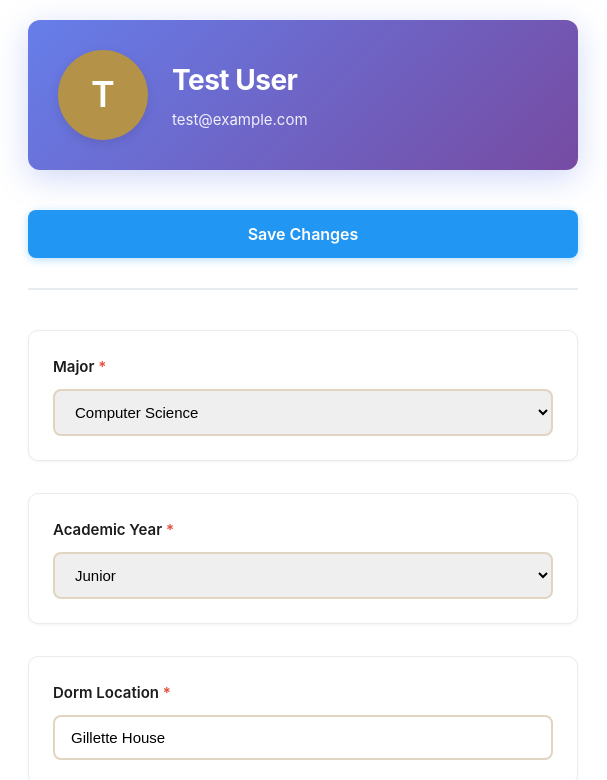
Scenario: ProfilePage › saves profile updates successfully
Expected: the dropdown labelled "Major *" shows "Computer Science", top-left (53, 389), bottom-right (553, 436)
Click the button "Save Changes".
click(303, 234)  # box top-left (28, 210), bottom-right (578, 258)
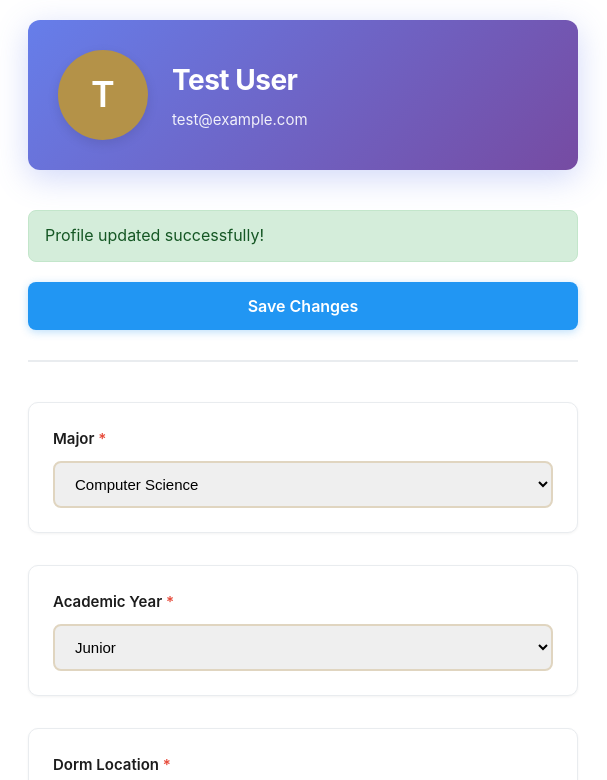
Expected: the text "Profile updated successfully!" is shown, top-left (28, 210), bottom-right (578, 262)
